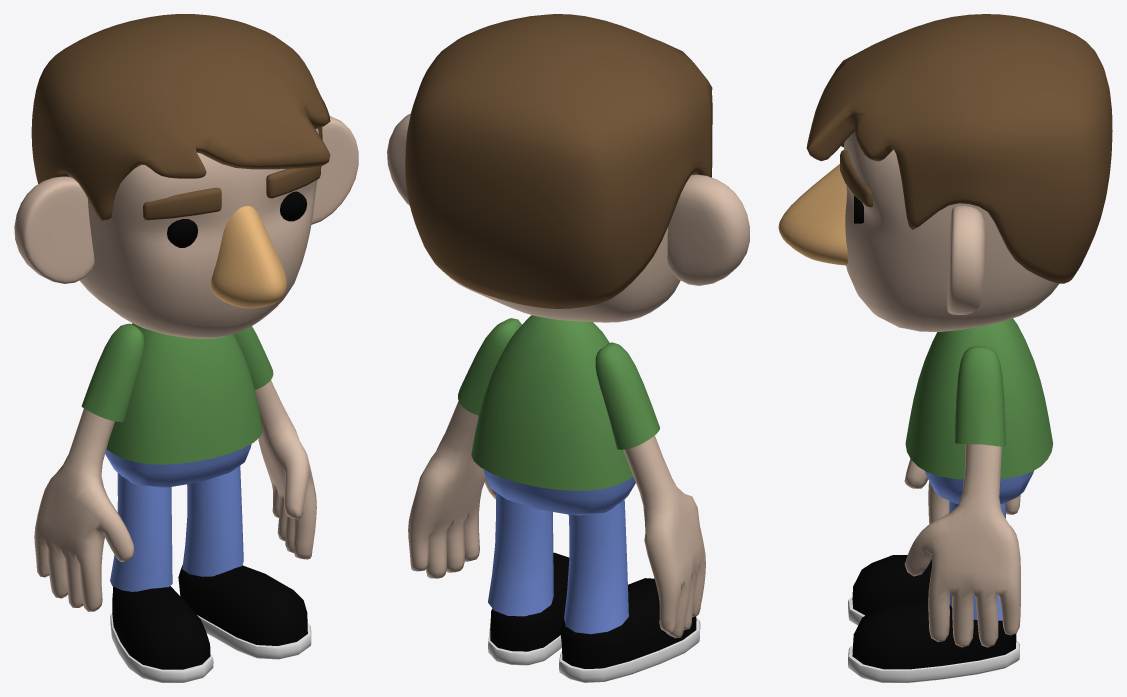
Rendered from avatar.glb.
3 renders of one model, left to right at view 1: azimuth 30°, elevation 25°; view 2: azimuth 150°, elevation 25°; view 3: azimuth 270°, elevation 25°, orthographic. The views are drawn at different scales.
Visible parts, largest first — view 1: Hair_Parted, Head, Arms_Down, Shoes, Body, PantsLegs, Nose, Sleeves_Down, Eyebrows, PantsTop, Eyes; view 2: Hair_Parted, Body, Arms_Down, PantsLegs, Head, Shoes, Sleeves_Down, PantsTop; view 3: Hair_Parted, Head, Arms_Down, Body, Shoes, Nose, Sleeves_Down, PantsTop, Eyebrows.
Part boxes in pixels (<box>): Hair_Parted: <box>31,14,330,221</box>; Head: <box>14,116,358,338</box>; Arms_Down: <box>34,380,316,611</box>; Shoes: <box>110,564,311,682</box>; Body: <box>106,323,262,464</box>; PantsLegs: <box>110,465,243,591</box>; Nose: <box>211,206,286,308</box>; Sleeves_Down: <box>81,323,273,422</box>; Eyebrows: <box>143,166,320,220</box>; PantsTop: <box>105,444,251,487</box>; Eyes: <box>167,191,307,247</box>; Hair_Parted: <box>405,14,712,308</box>; Body: <box>471,315,633,490</box>; Arms_Down: <box>408,401,705,638</box>; PantsLegs: <box>488,492,628,634</box>; Head: <box>387,113,749,322</box>; Shoes: <box>488,552,700,682</box>; Sleeves_Down: <box>458,318,659,449</box>; PantsTop: <box>483,469,635,515</box>; Hair_Parted: <box>806,14,1112,283</box>; Head: <box>843,132,1059,331</box>; Arms_Down: <box>904,444,1020,647</box>; Body: <box>905,318,1053,479</box>; Shoes: <box>848,555,1019,682</box>; Nose: <box>778,164,847,265</box>; Sleeves_Down: <box>954,346,1005,446</box>; PantsTop: <box>925,471,1033,503</box>; Eyebrows: <box>840,142,873,207</box>.
Size of the model in its own units: 0.3994 by 0.6686 by 0.3336.
